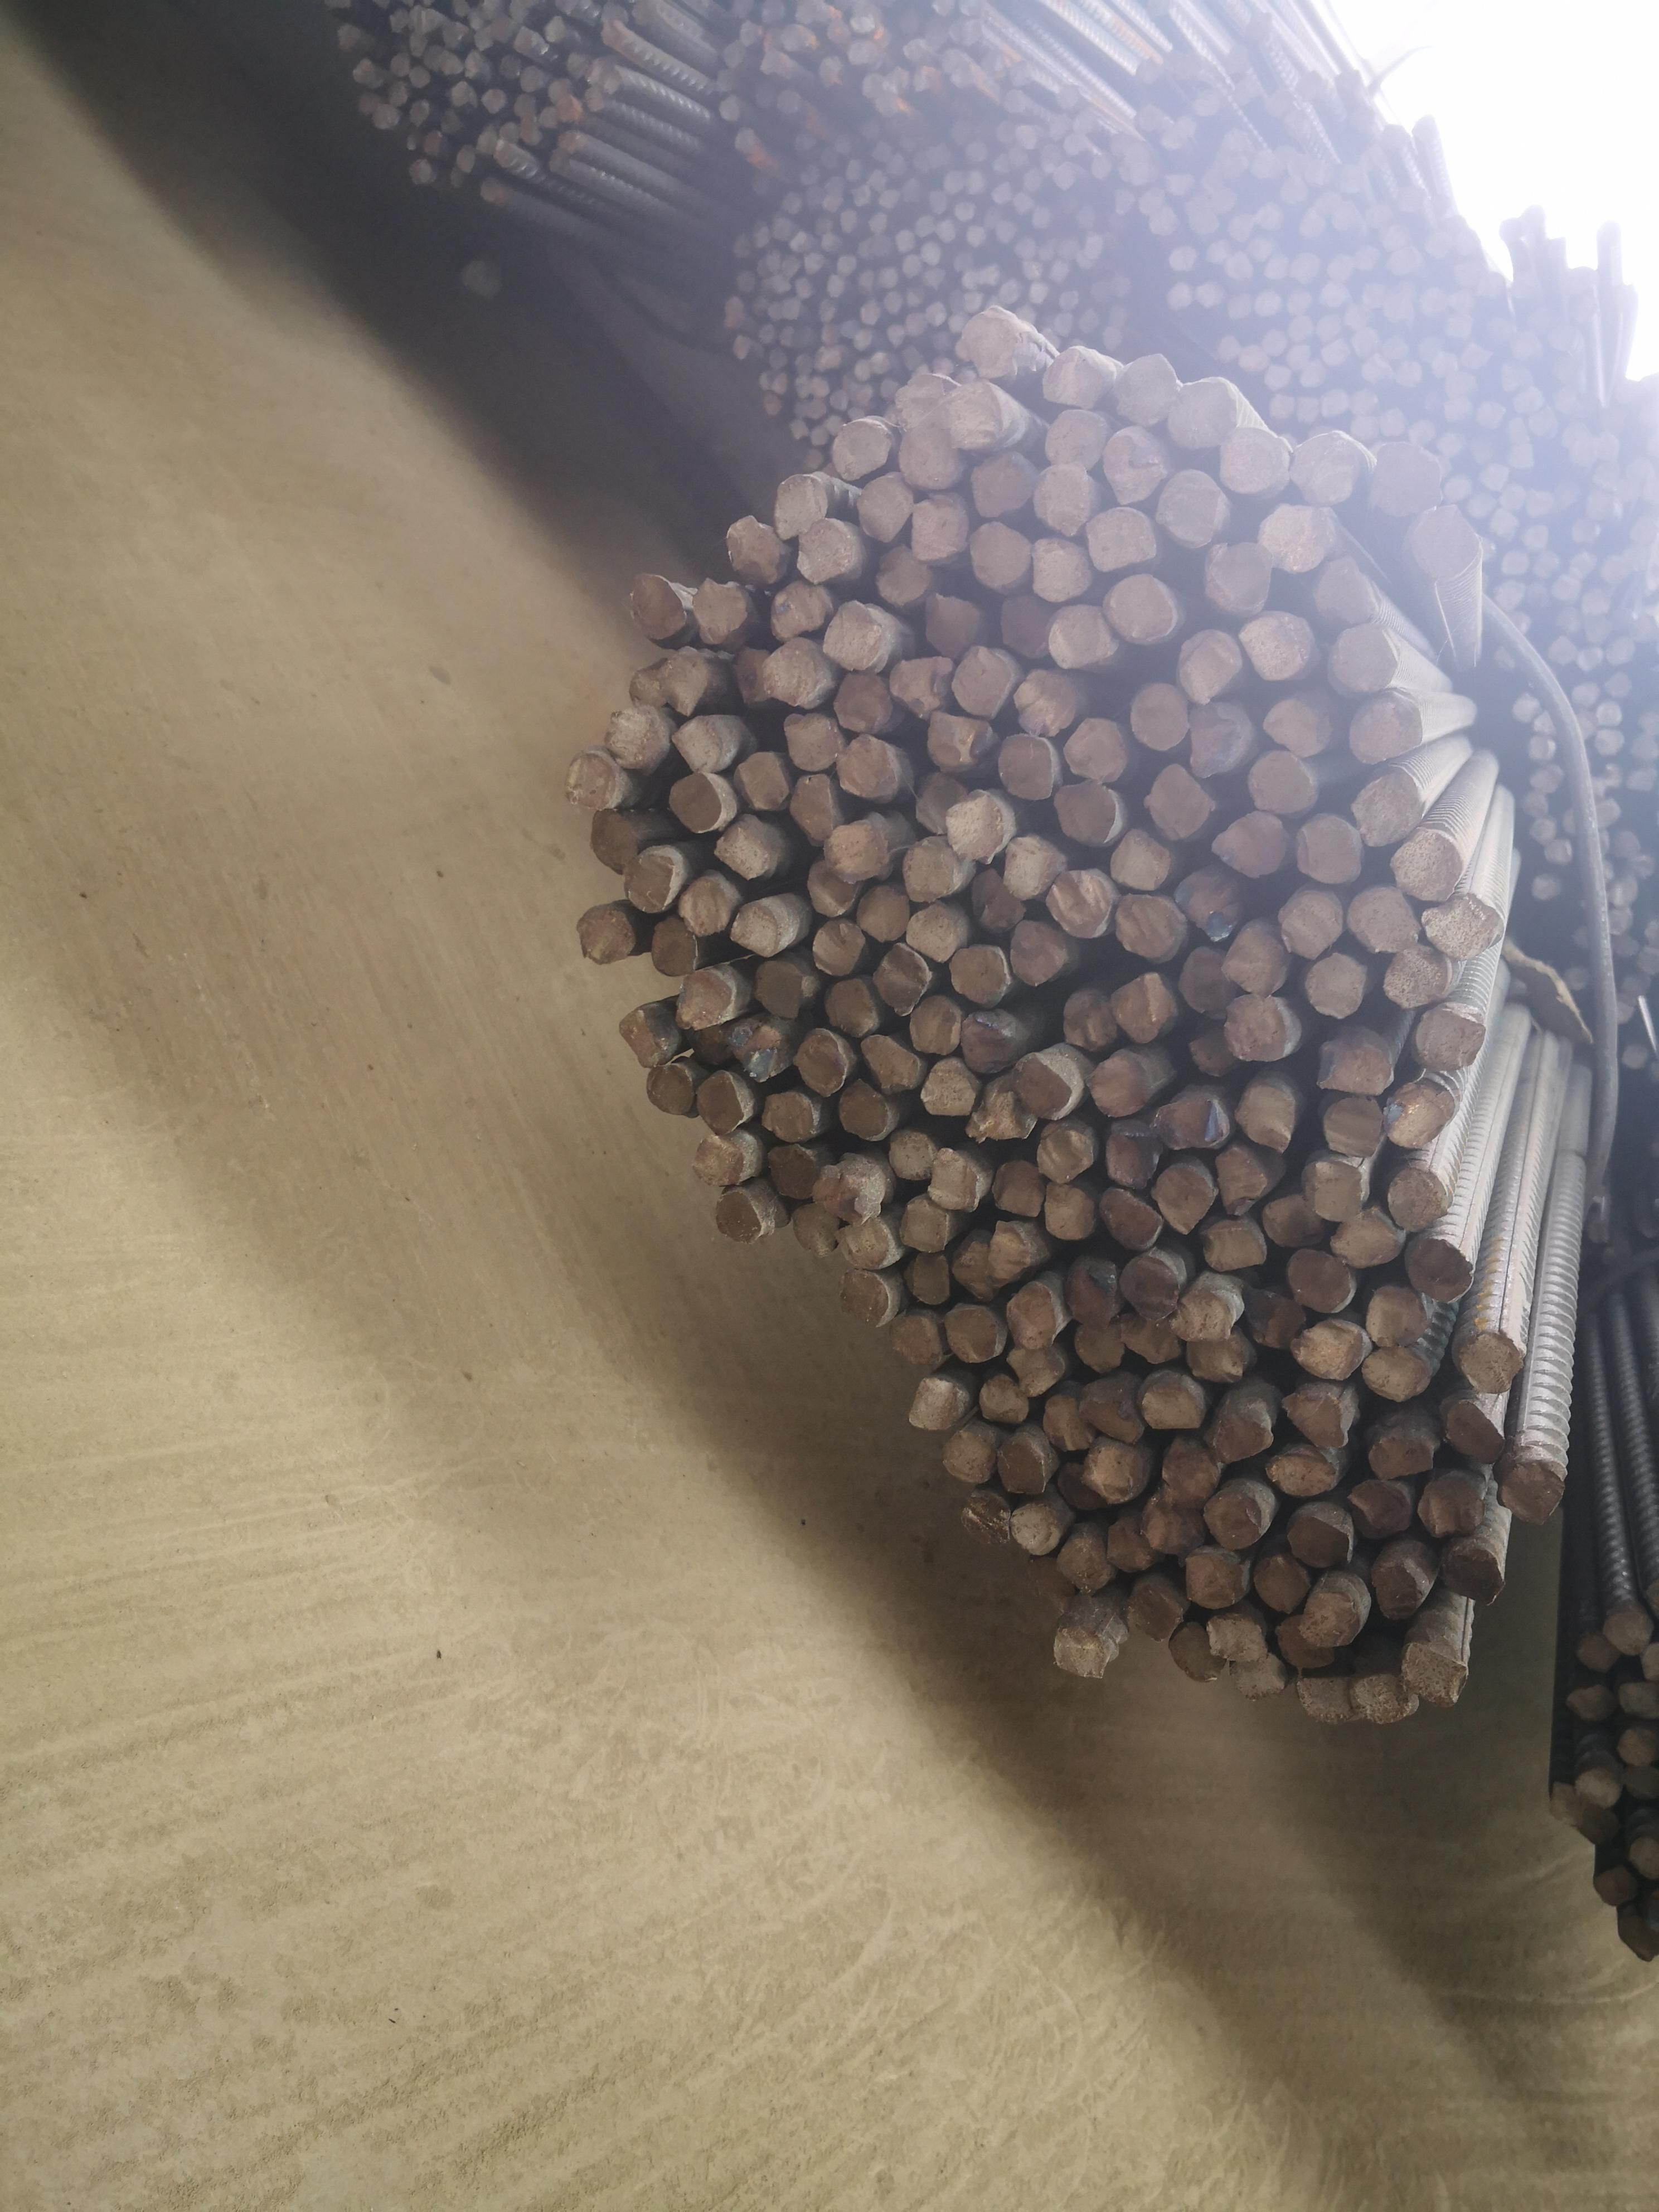rebar: (1254, 499, 1338, 576), (1154, 466, 1233, 550), (1142, 761, 1220, 842), (1348, 765, 1425, 848), (1420, 892, 1505, 964), (1209, 809, 1295, 877), (1366, 443, 1441, 520), (1404, 508, 1483, 581), (1291, 428, 1364, 505), (1238, 608, 1317, 680), (1173, 862, 1244, 943), (1185, 698, 1256, 778), (1346, 695, 1426, 765), (1220, 925, 1290, 1006), (1166, 376, 1239, 451), (817, 600, 891, 672), (1327, 619, 1402, 693), (1294, 811, 1366, 885), (1109, 352, 1180, 429), (1216, 424, 1293, 497), (1202, 539, 1273, 615), (1101, 575, 1178, 646), (1084, 505, 1162, 575), (1031, 459, 1099, 539), (950, 306, 1020, 383), (1388, 833, 1466, 902), (1101, 428, 1167, 507), (1175, 628, 1241, 706), (1385, 1078, 1458, 1150), (1346, 884, 1420, 953), (1112, 893, 1189, 962), (760, 637, 832, 709), (938, 380, 1008, 453), (964, 518, 1034, 590), (1011, 667, 1080, 740), (1079, 1436, 1152, 1504), (1112, 970, 1180, 1045), (724, 512, 789, 588), (968, 450, 1037, 522), (1047, 601, 1119, 671), (1245, 749, 1320, 817), (622, 570, 689, 644), (1176, 943, 1241, 1021), (1313, 1035, 1393, 1097), (1280, 892, 1348, 962), (1038, 345, 1110, 413), (614, 1003, 684, 1071), (1046, 867, 1113, 939), (1084, 1052, 1156, 1120), (1290, 1322, 1371, 1381), (894, 426, 968, 493), (906, 491, 972, 564), (1226, 995, 1298, 1061), (1313, 556, 1380, 625), (1303, 953, 1371, 1022), (1406, 1236, 1476, 1305), (1284, 1245, 1355, 1313), (1262, 696, 1332, 761), (1414, 1005, 1485, 1071), (1154, 1164, 1220, 1235), (945, 794, 1010, 867), (1047, 780, 1121, 844), (786, 771, 847, 848), (871, 943, 932, 1019), (1329, 1207, 1406, 1269), (558, 748, 625, 815), (714, 812, 782, 879), (1400, 1639, 1469, 1707), (1127, 683, 1194, 753), (884, 653, 953, 719), (1381, 945, 1452, 1012), (1363, 1284, 1433, 1349), (1118, 1252, 1182, 1325), (952, 645, 1014, 718), (1237, 1081, 1301, 1154), (1001, 834, 1068, 900), (1386, 1167, 1453, 1233), (1078, 1376, 1146, 1444), (1418, 1474, 1487, 1540), (853, 473, 914, 545), (778, 708, 844, 773), (834, 733, 901, 799), (1064, 716, 1129, 782), (1099, 1185, 1165, 1251), (1182, 1546, 1248, 1613), (795, 516, 857, 586), (902, 901, 973, 965), (946, 944, 1015, 1007), (1323, 1092, 1385, 1162), (688, 576, 750, 648), (1359, 1343, 1432, 1404), (1045, 1623, 1120, 1681), (1109, 828, 1175, 891), (1243, 1284, 1309, 1347), (1202, 1488, 1269, 1552), (1161, 1437, 1224, 1504), (1439, 1545, 1508, 1608), (1041, 410, 1110, 470), (901, 836, 962, 906), (1007, 919, 1068, 988), (1285, 1511, 1354, 1570), (964, 1088, 1038, 1144), (1154, 1093, 1228, 1150), (993, 734, 1057, 800), (1460, 1330, 1525, 1394), (1029, 537, 1093, 604), (604, 706, 671, 769), (1500, 1461, 1567, 1524), (1141, 1488, 1204, 1556), (1280, 1390, 1348, 1451), (764, 581, 835, 642), (656, 646, 713, 720), (675, 968, 736, 1032), (874, 543, 935, 610), (968, 868, 1029, 933), (1348, 1479, 1415, 1540), (1274, 1613, 1341, 1674), (821, 823, 889, 884), (694, 1067, 749, 1138), (1445, 1399, 1507, 1462), (769, 473, 830, 537), (831, 418, 893, 483), (1013, 1053, 1076, 1119), (1212, 1399, 1274, 1463), (940, 1424, 998, 1490), (727, 1018, 784, 1085), (921, 590, 980, 658), (997, 593, 1055, 661), (1062, 987, 1119, 1056), (1307, 1157, 1364, 1224), (1065, 1257, 1122, 1323), (1199, 1215, 1268, 1272), (621, 852, 681, 914), (576, 904, 638, 966), (857, 1034, 921, 1094), (1251, 1551, 1312, 1614), (832, 672, 891, 736), (820, 976, 880, 1040), (924, 709, 983, 773), (1297, 1588, 1361, 1648), (989, 1153, 1047, 1220), (588, 809, 644, 876), (793, 1030, 849, 1098), (1216, 1145, 1268, 1215), (809, 918, 869, 981), (1034, 1127, 1097, 1185), (1267, 1447, 1341, 1498), (1171, 1288, 1237, 1343), (927, 1147, 981, 1214), (1366, 1428, 1435, 1480), (664, 773, 724, 833), (1102, 1127, 1161, 1188), (911, 772, 969, 835), (918, 1055, 977, 1118), (1059, 1532, 1115, 1596), (1293, 1670, 1356, 1728), (672, 712, 726, 776), (1140, 1379, 1204, 1435), (1007, 1282, 1059, 1350), (1351, 1672, 1419, 1724), (896, 372, 955, 432), (810, 1164, 869, 1225), (945, 1305, 1002, 1365), (1125, 1583, 1183, 1643), (735, 751, 790, 813), (1168, 1622, 1224, 1684), (1203, 1613, 1271, 1663), (804, 858, 861, 918), (906, 1375, 964, 1434), (958, 1015, 1016, 1075), (836, 1270, 891, 1331), (909, 994, 963, 1058), (1371, 1558, 1425, 1622), (838, 1080, 890, 1144), (1002, 1344, 1067, 1398), (765, 1143, 821, 1201), (890, 1309, 946, 1369), (788, 1201, 840, 1263), (1262, 1196, 1325, 1249), (677, 879, 733, 937), (1039, 1393, 1094, 1451), (959, 1488, 1012, 1549), (1042, 1182, 1097, 1243), (952, 1241, 1003, 1301), (984, 1218, 1037, 1279), (1227, 1651, 1288, 1703), (650, 916, 701, 978), (858, 885, 912, 944), (690, 1136, 750, 1189), (977, 1370, 1030, 1428), (1187, 1333, 1249, 1381), (729, 903, 785, 955), (710, 1189, 765, 1245), (837, 1217, 892, 1271), (896, 1199, 950, 1255), (754, 962, 807, 1019), (1010, 1500, 1064, 1558), (995, 1437, 1046, 1497), (1560, 1677, 1619, 1728), (1072, 1323, 1129, 1374), (1103, 1517, 1153, 1574), (1602, 1597, 1651, 1657), (762, 1092, 818, 1142), (903, 1250, 952, 1307), (646, 1063, 695, 1117), (886, 1127, 936, 1180), (1187, 1032, 1240, 1079), (1125, 1321, 1182, 1367), (733, 648, 774, 707), (625, 667, 673, 715), (1589, 1862, 1637, 1910), (1572, 1765, 1619, 1809), (1616, 1678, 1658, 1723), (1622, 1911, 1659, 1961), (461, 258, 505, 300), (1575, 1632, 1619, 1673), (1615, 1725, 1654, 1770), (1548, 1782, 1583, 1828), (1577, 1806, 1619, 1845), (1628, 1831, 1659, 1876), (1288, 250, 1321, 284), (1333, 163, 1369, 193), (1164, 48, 1202, 79), (1230, 74, 1263, 106), (1599, 555, 1632, 586), (462, 50, 494, 83), (1454, 256, 1488, 287), (511, 25, 547, 55), (816, 54, 845, 90), (1243, 8, 1273, 43), (1395, 182, 1430, 212), (1317, 339, 1355, 369), (947, 18, 985, 46), (1332, 200, 1365, 232), (1253, 200, 1287, 231), (1417, 287, 1449, 319), (1475, 399, 1507, 430), (1500, 361, 1532, 393), (1553, 383, 1585, 415), (1442, 472, 1474, 504), (1523, 488, 1557, 518), (1494, 578, 1526, 610), (1508, 691, 1540, 724), (1194, 278, 1223, 314), (1472, 271, 1507, 300), (1360, 355, 1395, 385), (1441, 396, 1476, 425), (1592, 727, 1626, 757), (1214, 149, 1250, 178), (1376, 124, 1411, 152), (1410, 113, 1442, 145), (1377, 405, 1408, 437), (1589, 431, 1621, 462), (1585, 490, 1617, 521), (1569, 680, 1600, 710), (1602, 670, 1633, 700), (1619, 974, 1650, 1005), (1238, 345, 1270, 374), (1295, 357, 1327, 387), (1350, 328, 1381, 361), (1459, 341, 1492, 371), (1553, 354, 1585, 382), (1487, 508, 1520, 538), (1499, 547, 1532, 576), (1550, 573, 1582, 602), (1611, 873, 1640, 906), (1294, 69, 1328, 98), (1317, 282, 1353, 309), (1548, 322, 1583, 351), (1443, 371, 1479, 397), (371, 103, 402, 132), (1148, 207, 1180, 236), (1223, 45, 1253, 76), (1350, 244, 1382, 273), (1318, 386, 1349, 419), (1348, 387, 1380, 416), (1349, 414, 1380, 442), (1612, 376, 1642, 407), (1590, 460, 1620, 489), (1546, 636, 1577, 666), (773, 88, 805, 116), (1387, 248, 1420, 276), (1313, 314, 1345, 342), (1530, 767, 1564, 794), (1511, 386, 1545, 413), (555, 93, 583, 122), (1133, 54, 1163, 84), (1264, 88, 1295, 116), (1282, 108, 1310, 138), (1227, 214, 1257, 243), (1223, 249, 1253, 279), (1225, 292, 1254, 321), (1253, 289, 1283, 319), (1486, 314, 1516, 345), (1610, 283, 1640, 313), (1555, 481, 1584, 511), (1629, 517, 1659, 546), (1621, 544, 1650, 574), (1580, 588, 1611, 617), (1574, 645, 1604, 673), (1629, 733, 1659, 762), (1543, 837, 1572, 866), (334, 22, 362, 54), (847, 38, 879, 67), (981, 51, 1010, 82), (1134, 105, 1166, 133), (1166, 244, 1197, 271), (1255, 153, 1286, 181), (1301, 158, 1332, 186), (1297, 210, 1328, 239), (1284, 317, 1316, 345), (1325, 252, 1355, 280), (1344, 302, 1374, 329), (1510, 333, 1543, 360), (1529, 409, 1559, 436), (1569, 516, 1600, 543), (1605, 638, 1636, 666), (1594, 797, 1623, 827), (1527, 818, 1558, 847), (1530, 872, 1562, 901), (491, 13, 517, 45), (950, 64, 982, 89), (720, 40, 749, 69), (780, 25, 808, 54), (1008, 59, 1035, 88), (949, 118, 977, 146), (1165, 282, 1194, 311), (1359, 148, 1388, 177), (1285, 287, 1313, 317), (1260, 329, 1289, 358), (1263, 361, 1292, 390), (1285, 342, 1312, 370), (1423, 231, 1454, 259), (1384, 297, 1413, 325), (1267, 392, 1296, 420), (1512, 270, 1541, 298), (1594, 217, 1624, 246), (1568, 292, 1599, 319), (1479, 463, 1509, 491), (1467, 491, 1497, 519), (1566, 550, 1594, 579), (1583, 617, 1611, 646), (1526, 735, 1556, 763), (1435, 430, 1467, 457), (1565, 264, 1595, 291), (1499, 482, 1530, 509), (1632, 614, 1659, 645), (1189, 208, 1221, 234), (1219, 128, 1251, 152), (449, 80, 478, 108), (481, 88, 509, 115), (736, 20, 764, 46), (911, 65, 940, 93), (1001, 86, 1028, 114), (1193, 90, 1221, 118), (1161, 123, 1189, 149), (1138, 187, 1166, 215), (1333, 67, 1361, 95), (1364, 202, 1393, 229), (1450, 288, 1477, 315), (1430, 351, 1459, 378), (1294, 395, 1320, 424), (1508, 443, 1536, 470), (1626, 458, 1653, 486), (1612, 931, 1641, 959), (1621, 1043, 1648, 1071), (352, 57, 379, 86), (440, 20, 468, 50), (409, 158, 434, 188), (493, 138, 519, 168), (793, 1, 823, 26), (717, 93, 742, 123), (733, 124, 758, 154), (1082, 234, 1108, 263), (1052, 161, 1079, 190), (1216, 334, 1243, 365), (1381, 225, 1410, 251), (1437, 215, 1467, 241), (1381, 334, 1410, 361), (1502, 416, 1531, 442), (1523, 522, 1549, 552), (1556, 605, 1583, 635), (1594, 700, 1624, 727), (1629, 853, 1656, 882), (565, 49, 590, 80), (1016, 122, 1041, 153), (1443, 314, 1475, 340), (1497, 217, 1528, 242), (1474, 532, 1498, 562), (1612, 992, 1637, 1025), (438, 108, 463, 136), (517, 64, 544, 93), (546, 78, 573, 105), (859, 72, 885, 100), (1072, 107, 1097, 134), (1107, 130, 1135, 156), (1347, 105, 1376, 131), (1280, 177, 1309, 205), (1316, 192, 1344, 219), (1453, 229, 1481, 256), (1361, 282, 1388, 308), (1395, 358, 1423, 387), (1408, 419, 1436, 445), (1561, 421, 1588, 449), (1599, 406, 1627, 434), (1533, 550, 1560, 579), (1525, 581, 1553, 608), (1609, 605, 1635, 634), (1530, 711, 1559, 737), (1614, 831, 1639, 859), (408, 98, 431, 128), (474, 125, 498, 154), (600, 18, 623, 48), (812, 347, 841, 371), (1112, 187, 1136, 215), (1265, 251, 1289, 280), (1530, 308, 1560, 333), (1626, 769, 1655, 795), (1521, 793, 1551, 817), (1608, 905, 1633, 934), (1636, 946, 1659, 977), (601, 63, 623, 96), (1574, 709, 1594, 742), (438, 51, 464, 77), (600, 2, 628, 27), (1046, 113, 1072, 140), (818, 146, 843, 172), (900, 346, 925, 371), (903, 311, 929, 337), (1123, 143, 1151, 168), (1211, 186, 1238, 212), (1205, 239, 1233, 265), (1427, 195, 1453, 222), (1391, 278, 1418, 304), (1418, 337, 1445, 364), (1468, 438, 1496, 465), (1521, 206, 1548, 231), (1510, 609, 1535, 635), (415, 8, 439, 34), (498, 54, 523, 81), (826, 17, 850, 45), (848, 11, 876, 35), (873, 88, 898, 117), (903, 38, 930, 64), (898, 8, 921, 35), (1055, 82, 1080, 110), (997, 276, 1021, 305), (1040, 144, 1064, 172), (1166, 170, 1194, 195), (1538, 237, 1567, 262), (1493, 646, 1518, 673), (1563, 965, 1590, 989), (518, 117, 541, 147), (582, 84, 605, 113), (753, 79, 775, 108), (940, 48, 969, 71), (995, 117, 1018, 147), (1638, 711, 1659, 741), (423, 45, 448, 71), (387, 81, 411, 106), (477, 176, 501, 202), (512, 92, 537, 119), (546, 148, 570, 174), (801, 186, 827, 212), (769, 215, 793, 241), (869, 351, 893, 376), (877, 265, 901, 290), (920, 240, 944, 266), (962, 170, 986, 197), (1014, 302, 1038, 327), (1010, 191, 1036, 215), (1201, 166, 1225, 192), (1249, 236, 1275, 261), (1569, 444, 1594, 469), (1616, 477, 1641, 502), (406, 32, 428, 60), (544, 16, 566, 43), (421, 129, 445, 157), (714, 66, 736, 94), (760, 48, 783, 77), (889, 65, 911, 93), (925, 300, 948, 327), (943, 168, 966, 196), (456, 142, 476, 173), (408, 64, 431, 89), (900, 130, 923, 156), (734, 269, 759, 293), (1099, 326, 1124, 350), (1090, 281, 1114, 305), (388, 6, 411, 33), (390, 53, 413, 78), (631, 2, 657, 25), (760, 1, 787, 25), (832, 133, 857, 154), (781, 191, 803, 215), (730, 232, 753, 258), (901, 177, 923, 202), (793, 275, 816, 300), (828, 387, 850, 413), (952, 248, 974, 273), (1063, 133, 1089, 156), (1090, 154, 1114, 179), (1128, 164, 1153, 187), (1018, 259, 1045, 281), (955, 1, 988, 17), (357, 90, 381, 114), (749, 172, 774, 195), (932, 142, 957, 166), (779, 254, 802, 279), (765, 348, 788, 372), (795, 326, 818, 351), (990, 180, 1012, 203), (935, 219, 957, 242), (960, 290, 982, 313), (995, 220, 1018, 244), (1012, 237, 1036, 260), (1048, 259, 1069, 283), (1077, 308, 1099, 332), (1058, 237, 1081, 260), (1030, 205, 1052, 230), (1072, 205, 1096, 228), (1185, 195, 1210, 217), (468, 5, 488, 31), (474, 27, 496, 54), (557, 128, 579, 153), (782, 296, 802, 322), (732, 334, 753, 361), (858, 302, 881, 327), (882, 290, 903, 314), (979, 261, 1001, 287), (1073, 251, 1097, 272), (827, 272, 846, 299), (1643, 373, 1659, 406), (928, 1, 959, 18), (508, 1, 529, 23), (858, 118, 881, 140), (913, 151, 936, 175), (866, 168, 889, 191), (851, 184, 872, 208), (876, 188, 900, 211), (821, 230, 844, 253), (803, 250, 826, 274), (769, 275, 792, 297), (818, 323, 841, 346), (840, 318, 863, 339), (805, 400, 828, 421), (808, 425, 831, 447), (801, 447, 823, 470), (852, 384, 874, 407), (913, 215, 936, 239), (965, 140, 989, 162), (991, 152, 1013, 175), (1029, 282, 1050, 305), (481, 1, 506, 21), (498, 121, 520, 144), (730, 1, 755, 21), (788, 231, 812, 253), (816, 301, 837, 325), (853, 328, 874, 353), (966, 223, 986, 248), (947, 313, 971, 334), (1058, 288, 1079, 311), (1022, 168, 1045, 193), (1604, 763, 1624, 788), (585, 57, 605, 84), (751, 222, 771, 248), (840, 208, 858, 236), (852, 358, 872, 382), (954, 337, 973, 362), (856, 269, 875, 294), (928, 190, 949, 215), (949, 288, 968, 313), (793, 132, 815, 153), (798, 164, 821, 185), (825, 177, 846, 196), (887, 153, 908, 176), (856, 237, 877, 260), (836, 254, 858, 277), (771, 372, 790, 395), (809, 376, 830, 398), (788, 418, 808, 441), (879, 378, 901, 400), (930, 328, 951, 351), (901, 254, 923, 278), (923, 268, 946, 290), (953, 200, 976, 222), (1008, 149, 1030, 170), (540, 106, 560, 130), (845, 158, 865, 183), (867, 211, 887, 236), (722, 312, 746, 332), (793, 376, 813, 400), (895, 229, 915, 253), (1054, 312, 1074, 337), (1587, 775, 1607, 799), (1572, 926, 1592, 951), (1645, 428, 1659, 460), (871, 234, 893, 255), (792, 353, 814, 375), (885, 323, 906, 346), (960, 270, 981, 291), (1110, 274, 1131, 295), (1177, 113, 1197, 134), (1643, 918, 1659, 945), (822, 195, 846, 214), (724, 295, 746, 316), (763, 393, 783, 417), (955, 366, 977, 385), (984, 209, 1004, 231), (1274, 143, 1297, 163), (764, 249, 783, 273), (1041, 324, 1059, 349), (1117, 159, 1134, 183), (871, 140, 893, 161), (757, 322, 776, 344), (932, 355, 953, 375), (903, 288, 921, 308), (1037, 238, 1055, 260), (1108, 304, 1128, 325), (756, 370, 773, 391), (826, 414, 844, 436), (1643, 402, 1659, 427), (452, 1, 471, 19), (814, 216, 833, 236), (765, 302, 784, 321), (882, 405, 901, 423), (841, 371, 858, 391), (406, 128, 421, 152), (764, 26, 782, 50), (779, 325, 795, 348), (449, 166, 463, 188), (757, 257, 770, 280), (792, 402, 808, 420), (847, 407, 866, 422), (755, 295, 771, 311)
